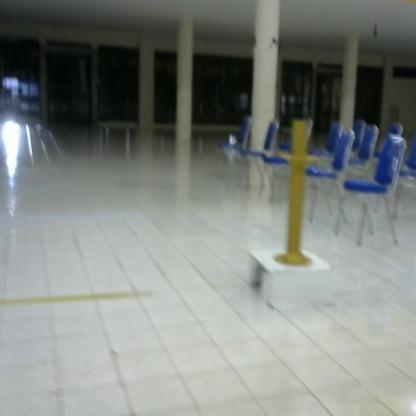pole: (276, 120, 320, 270)
